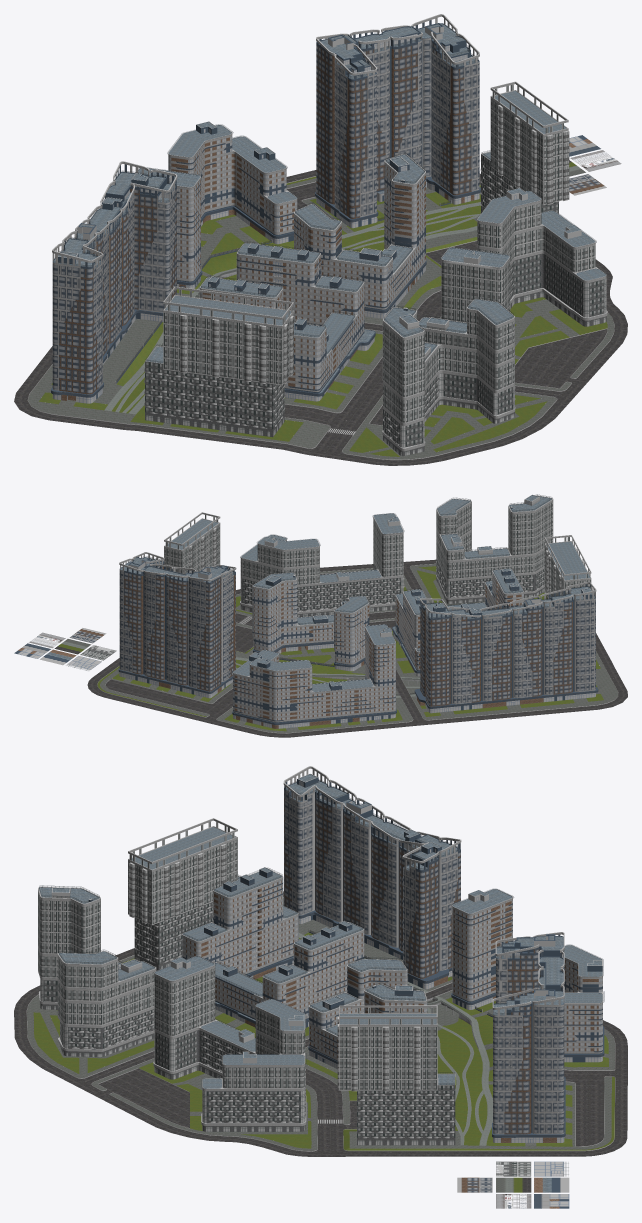
The model's file is city-block.glb.
The picture shows the model from 3 angles, top to bottom: view 1: azimuth 30°, elevation 25°; view 2: azimuth 150°, elevation 25°; view 3: azimuth 270°, elevation 25°; orthographic projection. The views are drawn at different scales.
Parts seen in each view (by area): view 1: terrain, Cube192, Cube002, Cube009, Plane057, Plane056, roads, Plane001, Plane048, Plane036, Cube, borders (+1 smaller); view 2: Cube002, Cube192, Plane048, Plane056, terrain, Plane057, roads, Plane036, Plane001, Cube, Plane061, Cube009 (+1 smaller); view 3: Cube002, terrain, Plane056, Plane001, Cube192, roads, Plane057, Cube, Cube009, Plane048, Plane036, Plane061 (+1 smaller).
Boxes of the visible parts, bbox=[...] form: terrain: bbox=[28, 176, 614, 459]; Cube192: bbox=[315, 14, 480, 228]; Cube002: bbox=[51, 161, 177, 403]; Cube009: bbox=[144, 286, 293, 437]; Plane057: bbox=[382, 297, 515, 456]; Plane056: bbox=[440, 188, 607, 326]; roads: bbox=[14, 170, 627, 465]; Plane001: bbox=[199, 241, 375, 401]; Plane048: bbox=[138, 121, 298, 288]; Plane036: bbox=[294, 152, 426, 318]; Cube: bbox=[480, 81, 569, 213]; borders: bbox=[27, 176, 614, 460]; Cube002: bbox=[414, 582, 598, 713]; Cube192: bbox=[118, 552, 236, 698]; Plane048: bbox=[232, 624, 396, 728]; Plane056: bbox=[240, 513, 404, 617]; terrain: bbox=[97, 564, 618, 732]; Plane057: bbox=[436, 494, 553, 603]; roads: bbox=[87, 559, 627, 737]; Plane036: bbox=[252, 571, 369, 671]; Plane001: bbox=[392, 567, 523, 676]; Cube: bbox=[164, 512, 220, 573]; Plane061: bbox=[14, 628, 116, 670]; Cube009: bbox=[544, 535, 591, 599]; Cube002: bbox=[283, 766, 461, 989]; terrain: bbox=[27, 897, 614, 1151]; Plane056: bbox=[153, 955, 306, 1131]; Plane001: bbox=[182, 867, 364, 1027]; Cube192: bbox=[492, 932, 565, 1142]; roads: bbox=[14, 891, 627, 1156]; Plane057: bbox=[38, 885, 156, 1057]; Cube: bbox=[337, 1005, 455, 1145]; Cube009: bbox=[128, 818, 240, 970]; Plane048: bbox=[451, 888, 604, 1062]; Plane036: bbox=[308, 957, 427, 1068]; Plane061: bbox=[457, 1161, 569, 1208].
Size of the model in its own units: 49369 by 11751 by 40058.
Materials: 7 (7 with a texture image).
